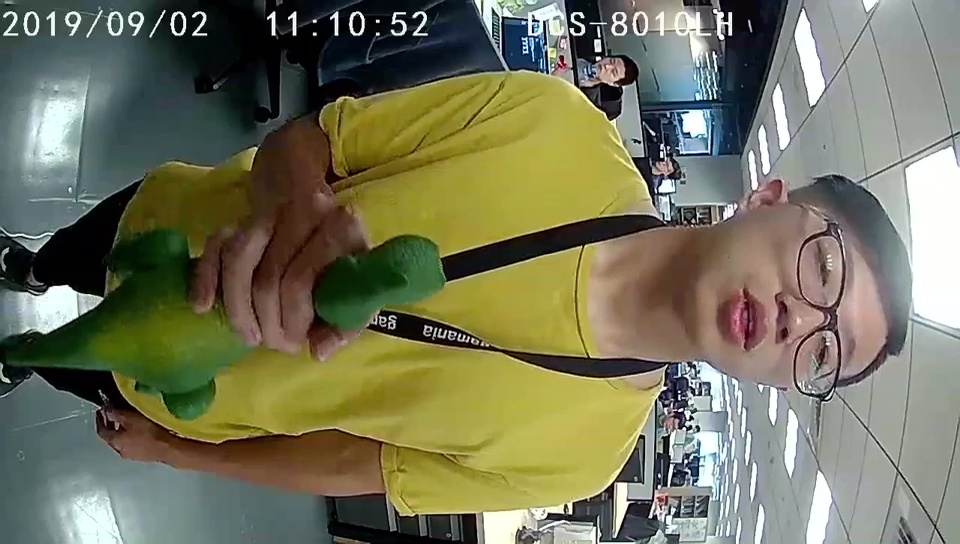rex: (130, 236, 446, 420)
